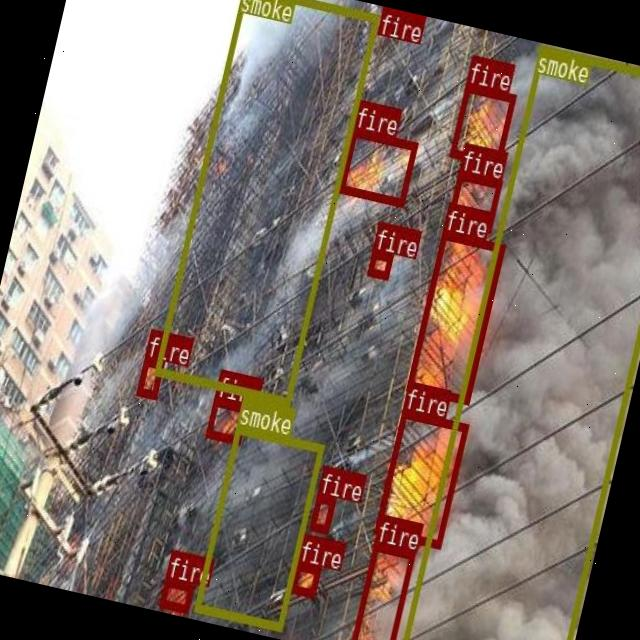fire: (405, 229, 504, 402), (372, 408, 468, 548), (349, 541, 414, 640), (337, 126, 417, 204), (449, 82, 515, 166), (446, 170, 501, 230), (204, 397, 247, 443), (158, 576, 194, 612), (135, 356, 163, 398), (290, 560, 320, 596), (308, 494, 334, 533), (378, 6, 412, 32), (367, 249, 392, 277)
smoke: (398, 43, 640, 640), (154, 0, 377, 404), (192, 422, 322, 628)
